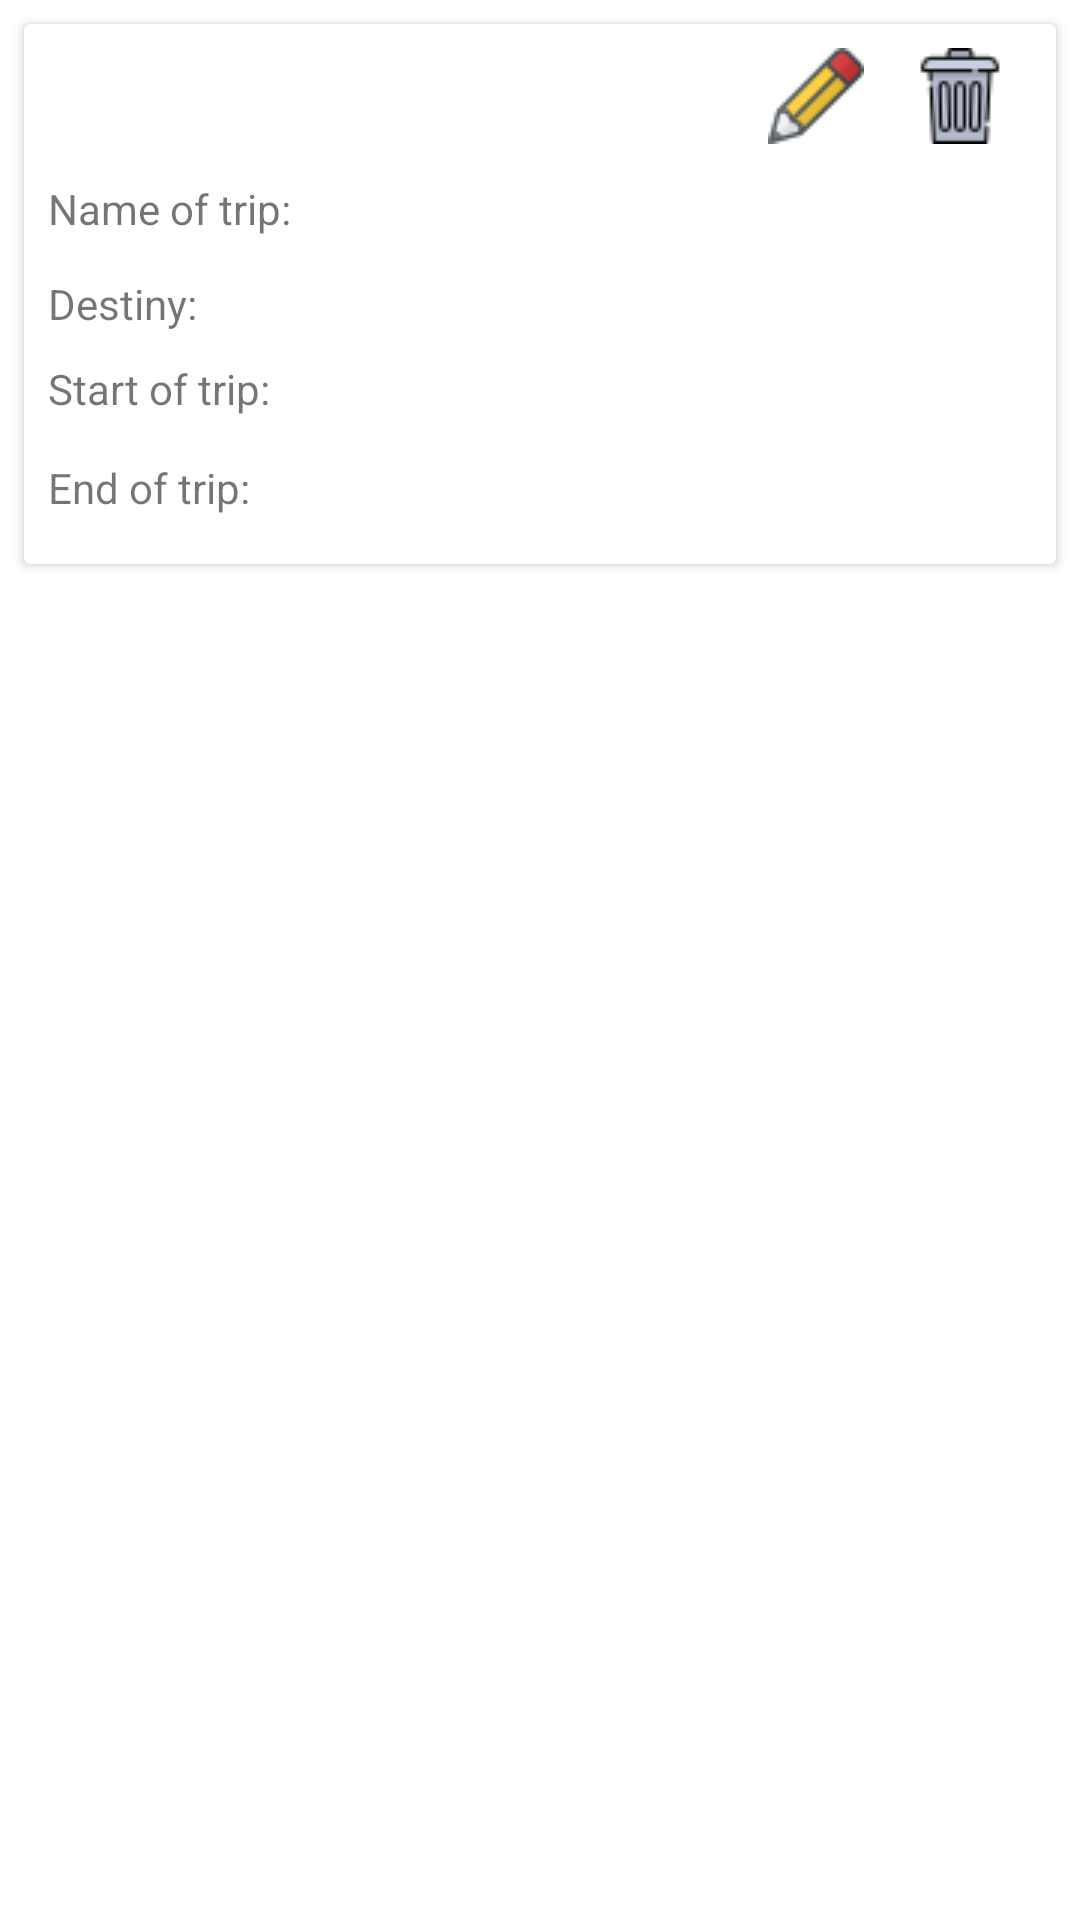

Icons on this 1080x1920 Android screen, each with its box as (x1, y1, x2, y2):
Edit trip button: (768, 48, 864, 144)
Erase trip: (920, 48, 1000, 144)
